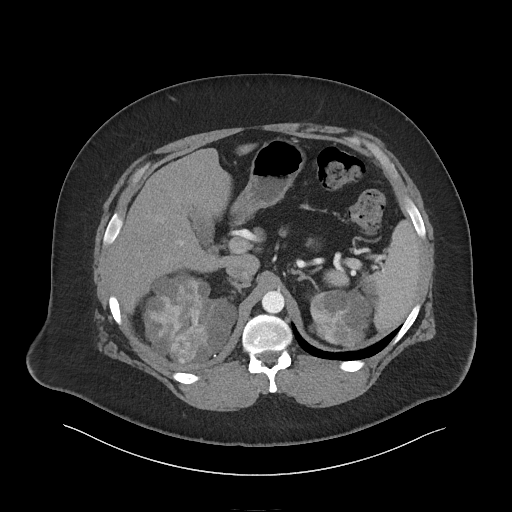Lesion: (168, 333, 199, 363)
